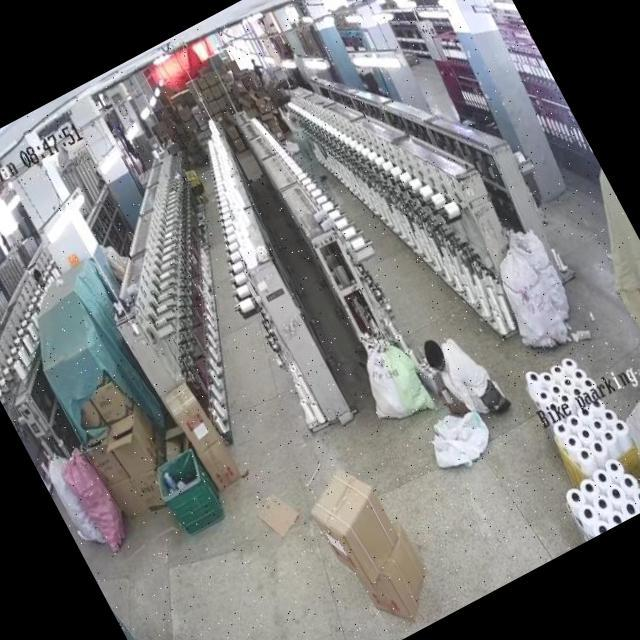person: (414, 322, 502, 421), (273, 96, 328, 184)
